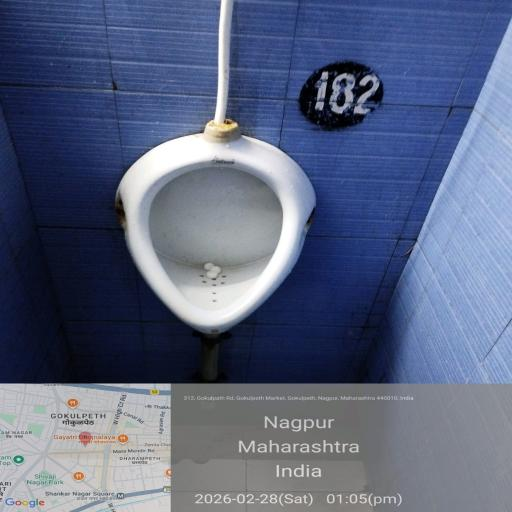clean_floor: (0, 11, 481, 144), (310, 154, 512, 362), (0, 163, 85, 373)
clean_urinal: (136, 148, 287, 324)
